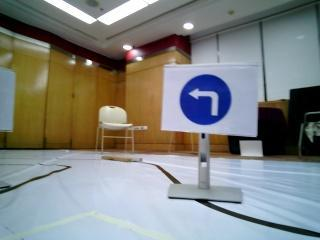left: (167, 66, 246, 133)
